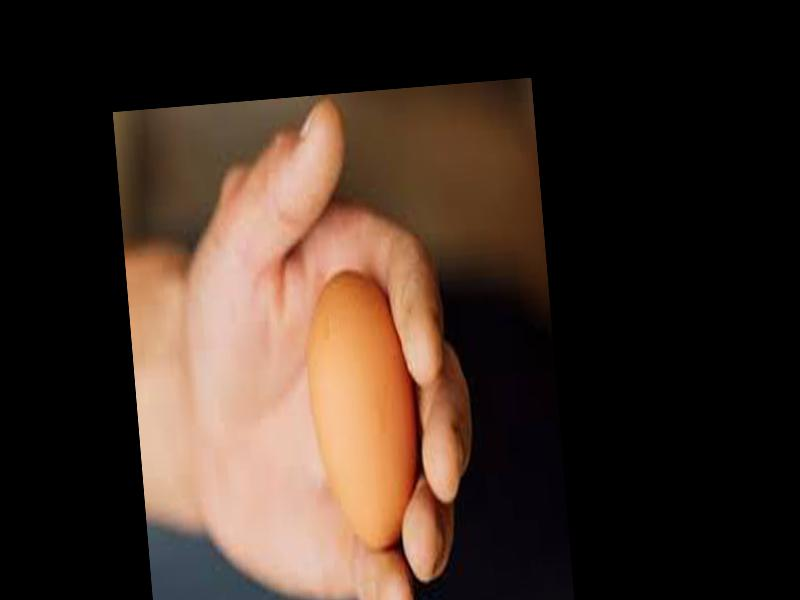Eggs: (301, 269, 423, 555)
